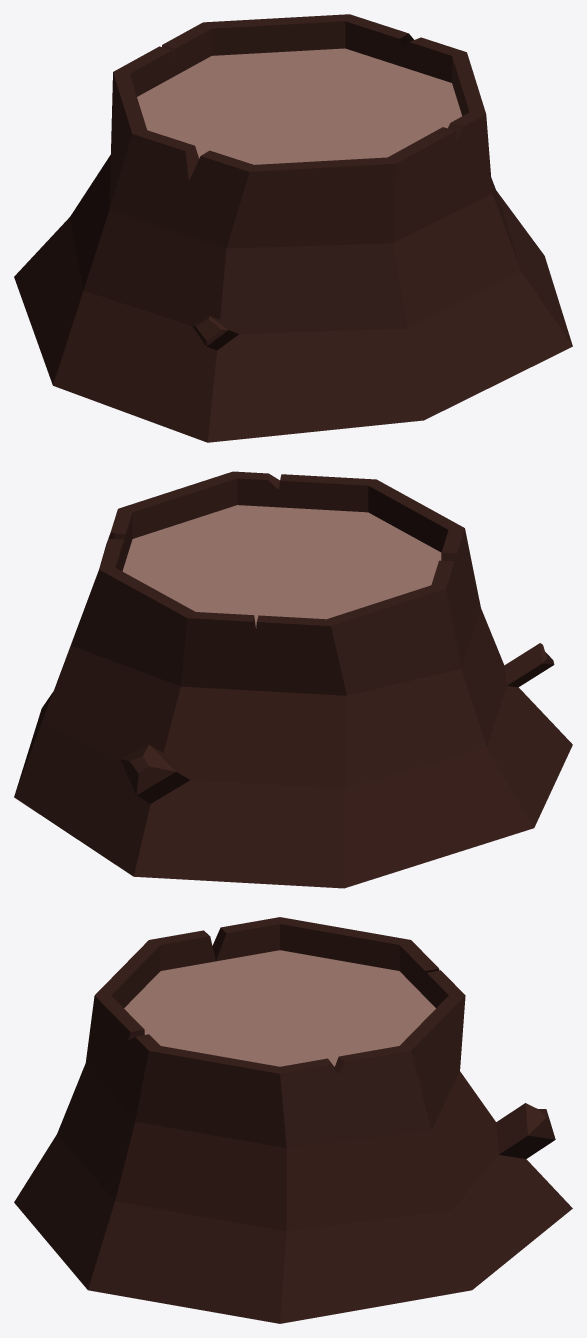
File: tree-log.fbx
3 renders of one model, top to bottom at view 1: azimuth 30°, elevation 25°; view 2: azimuth 150°, elevation 25°; view 3: azimuth 270°, elevation 25°, orthographic. The views are drawn at different scales.
Visible parts, largest first — view 1: Cylinder; view 2: Cylinder; view 3: Cylinder.
Boxes of the visible parts, x1,y1,x2,y2 form: Cylinder: (14, 14, 572, 442); Cylinder: (14, 471, 572, 888); Cylinder: (14, 917, 572, 1323).
Bounding box in the file's own units: 250 × 109 × 253.
